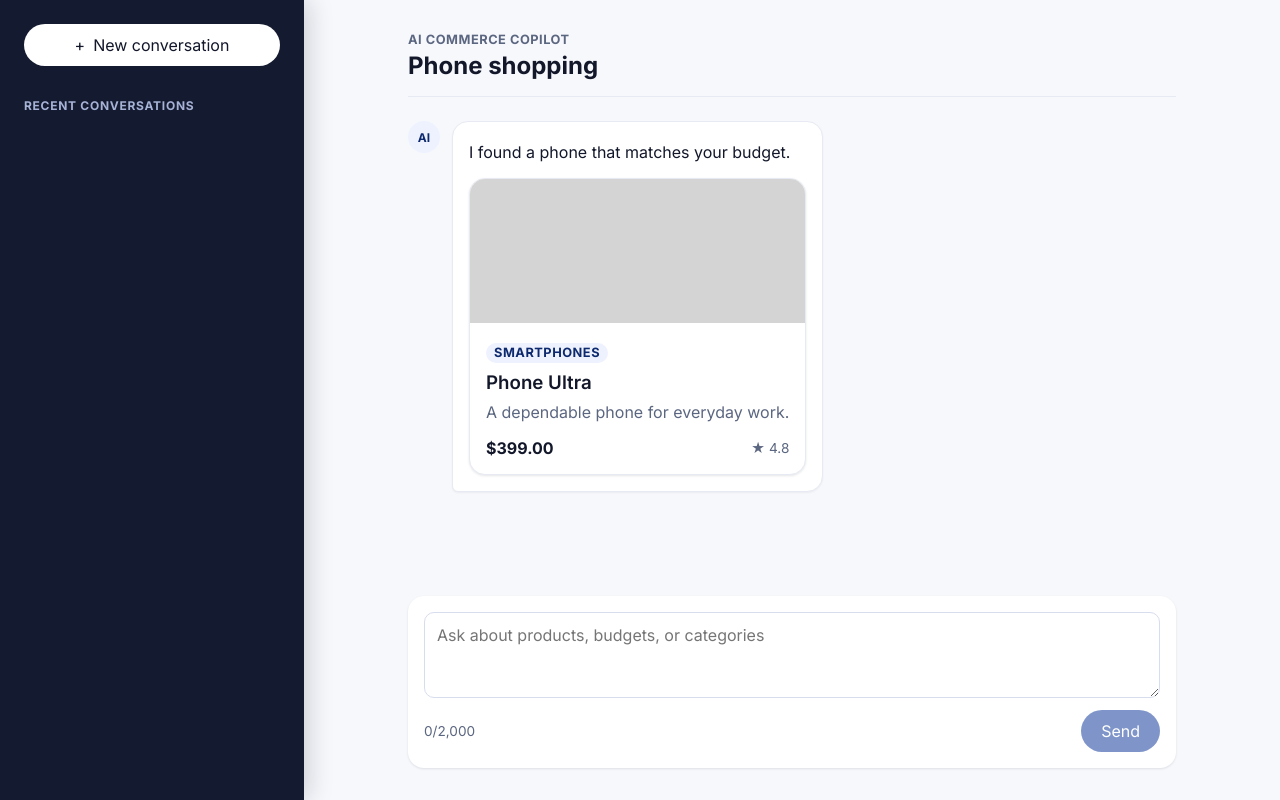
Scenario: ChatShell › offers a new conversation when the current conversation is unknown
The width and height of the screenshot is (1280, 800).
Type "Show me another phone" into the text box named "Message" at {"x": 792, "y": 655}, box [424, 612, 1160, 698]
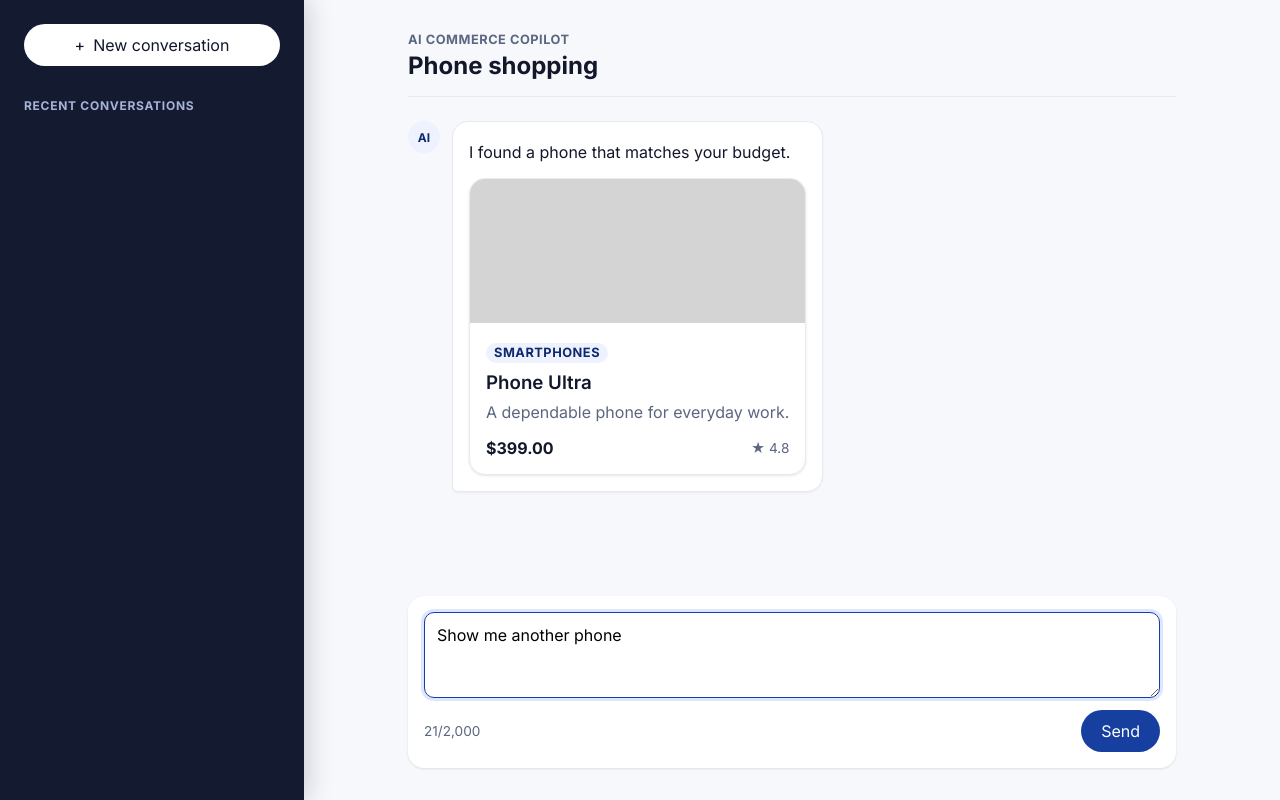
Click the button "Send" at {"x": 1121, "y": 731}, box [1081, 710, 1160, 752]
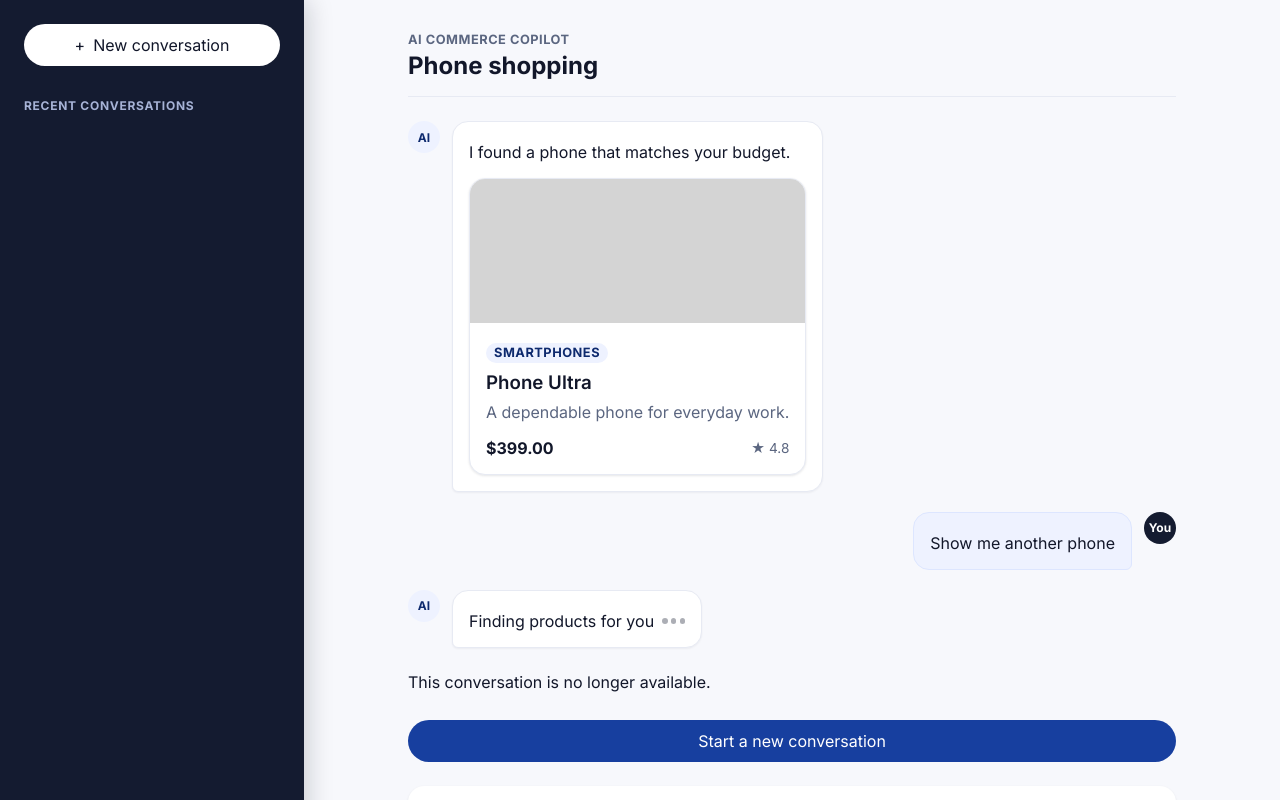
expect the button "Start a new conversation" is shown: met, box [408, 720, 1176, 762]
